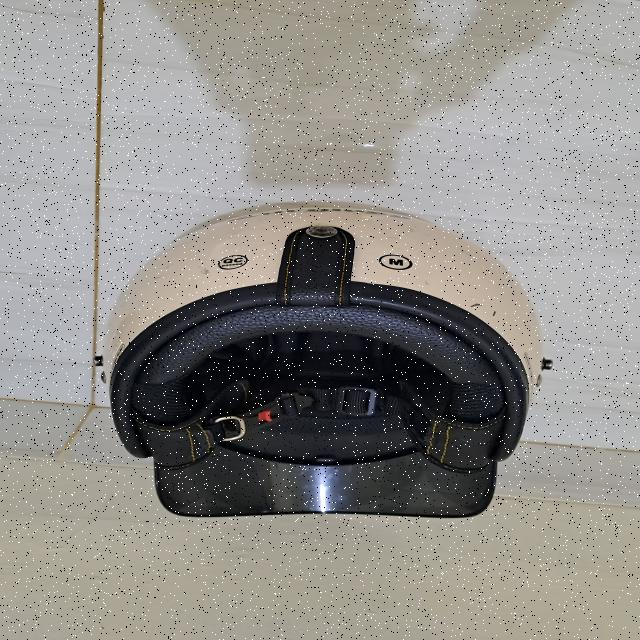Helmet: (109, 200, 548, 517)
